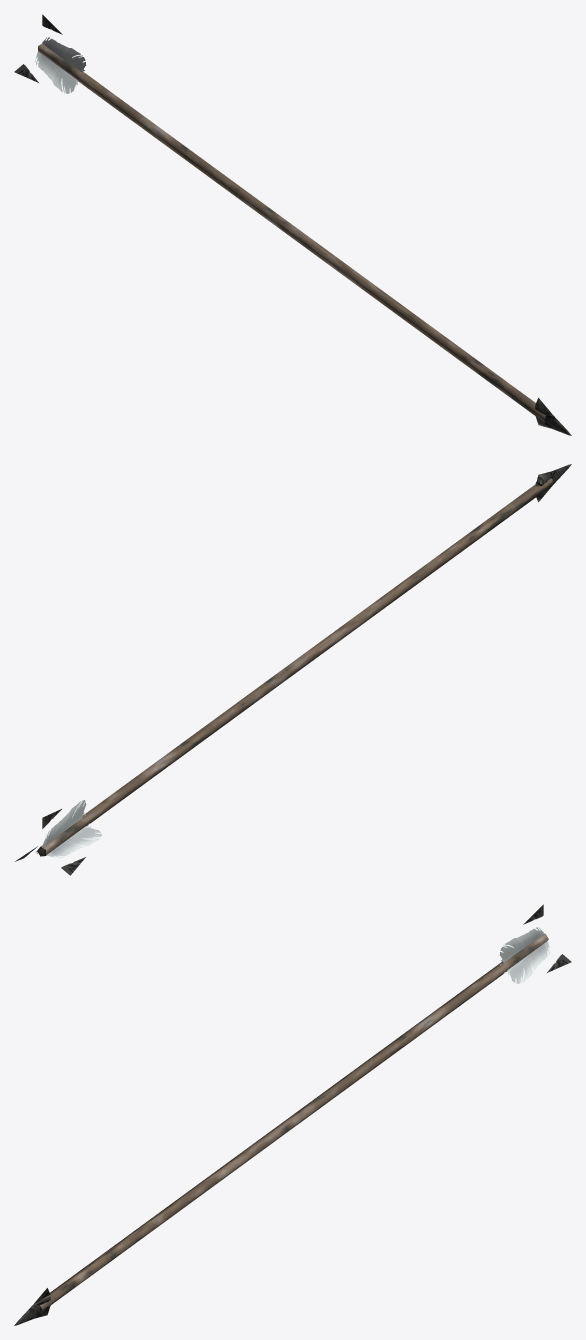
3 views of the same model, one above another, from view 1: azimuth 30°, elevation 25°; view 2: azimuth 150°, elevation 25°; view 3: azimuth 330°, elevation 25° (orthographic).
Parts seen in each view (by area): view 1: Arrow_Mesh; view 2: Arrow_Mesh; view 3: Arrow_Mesh.
Part boxes in pixels (bbox=[...]): Arrow_Mesh: bbox=[14, 14, 571, 435]; Arrow_Mesh: bbox=[15, 464, 571, 875]; Arrow_Mesh: bbox=[14, 904, 571, 1325].
Size of the model in its own units: 0.0461 by 0.04 by 0.7504.
Materials: 1 (1 with a texture image).
